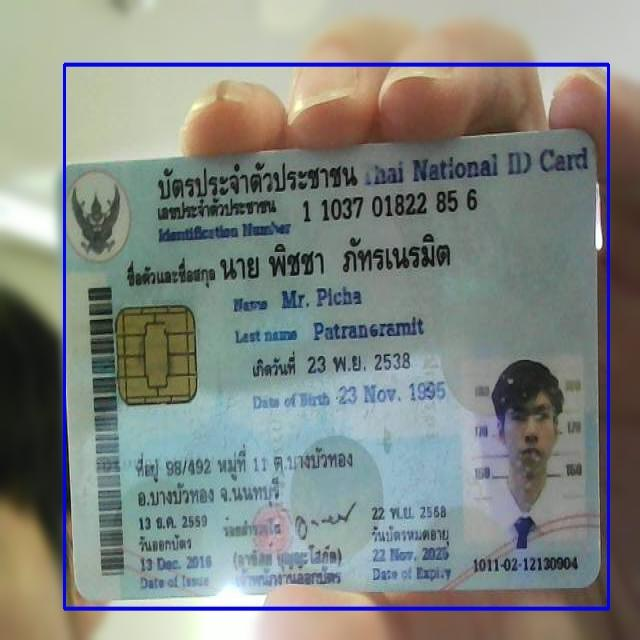Address_th: (128, 432, 384, 512)
Date_of_Birth: (335, 375, 450, 411)
Date_of_Expiry: (368, 543, 456, 567)
Date_of_Issue: (138, 550, 219, 575)
First_Name: (278, 285, 364, 313)
ID_Number: (300, 188, 481, 226)
Image: (466, 359, 583, 548)
Last_Name: (307, 314, 431, 345)
Thai_Name: (217, 228, 464, 282)
